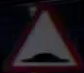Speed Breaker ahead: (9, 8, 69, 65)
